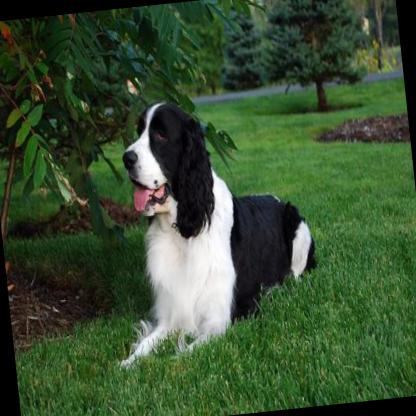English_springer: (87, 83, 328, 377)
